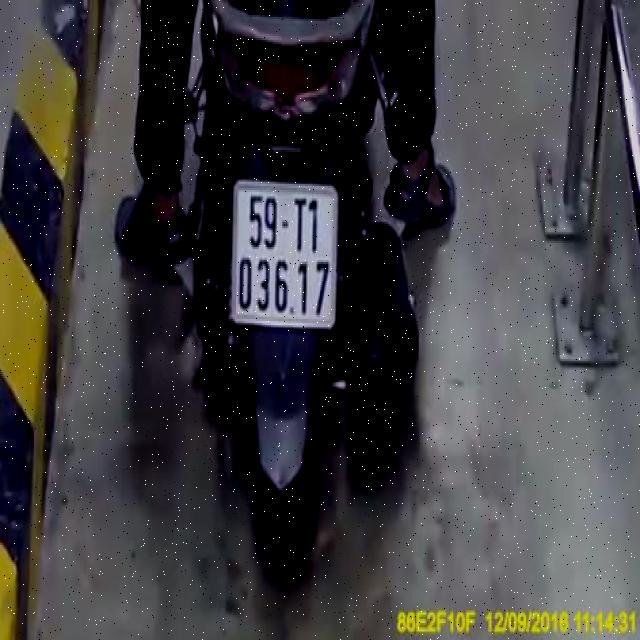0: (239, 255, 254, 312)
1: (307, 198, 321, 256), (298, 261, 308, 318)
3: (254, 257, 271, 314)
5: (248, 194, 264, 248)
6: (274, 259, 290, 313)
7: (314, 258, 330, 318)
9: (264, 193, 278, 253)
T: (292, 197, 308, 254)
